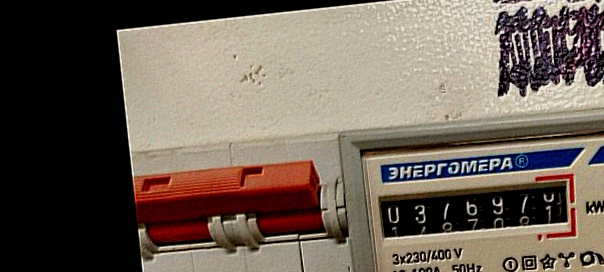0: (385, 202, 402, 225)
1: (543, 203, 556, 224)
3: (414, 203, 430, 225)
6: (464, 193, 481, 218)
7: (438, 197, 456, 222), (516, 191, 533, 215)
9: (490, 192, 506, 216)
screen: (369, 162, 585, 260)
